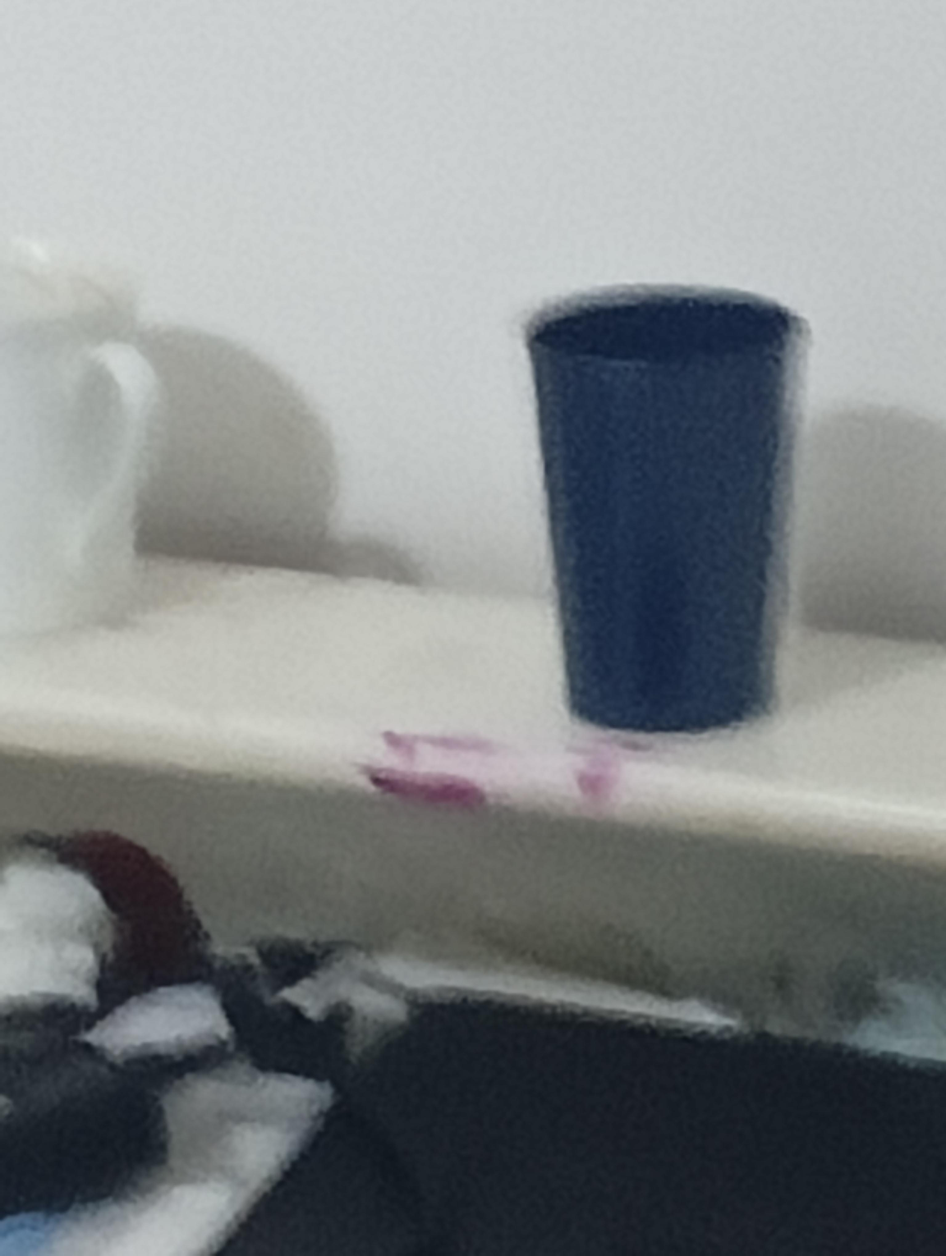cup: (528, 287, 804, 731), (0, 254, 158, 635)
